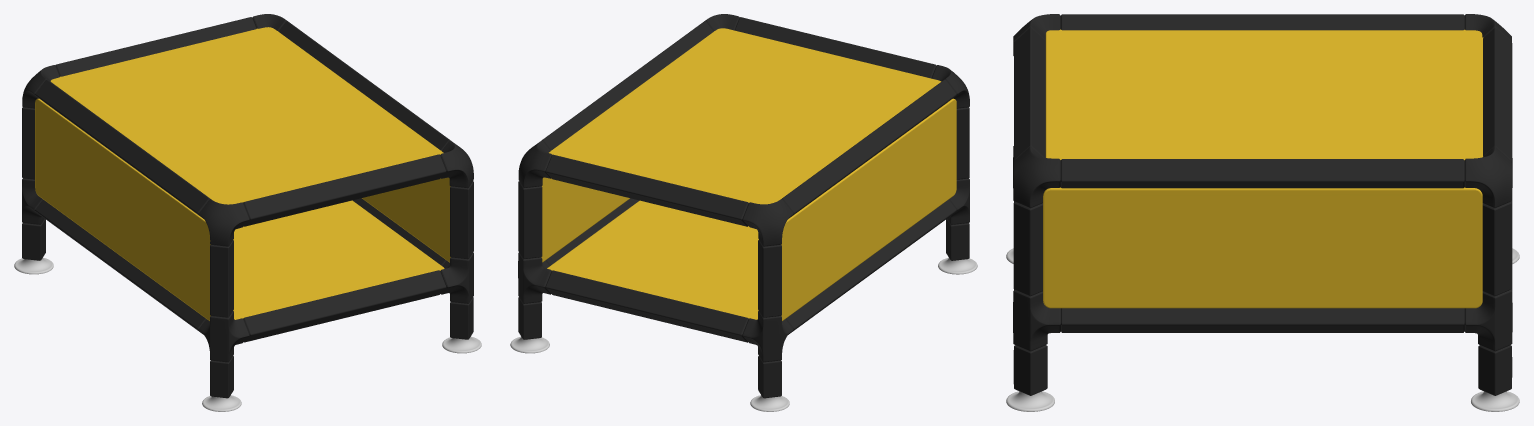
The picture shows the model from 3 angles, left to right: view 1: azimuth 30°, elevation 25°; view 2: azimuth 150°, elevation 25°; view 3: azimuth 270°, elevation 25°; orthographic projection. The views are drawn at different scales.
Visible parts, largest first — view 1: 229x329x79; view 2: 229x329x79; view 3: 229x329x79.
Part boxes in pixels (x1=…): 229x329x79: x1=14, y1=14, x2=481, y2=411; 229x329x79: x1=510, y1=14, x2=977, y2=411; 229x329x79: x1=1006, y1=14, x2=1519, y2=411.
Bounding box in the file's own units: 0.3189 × 0.2183 × 0.4182.
